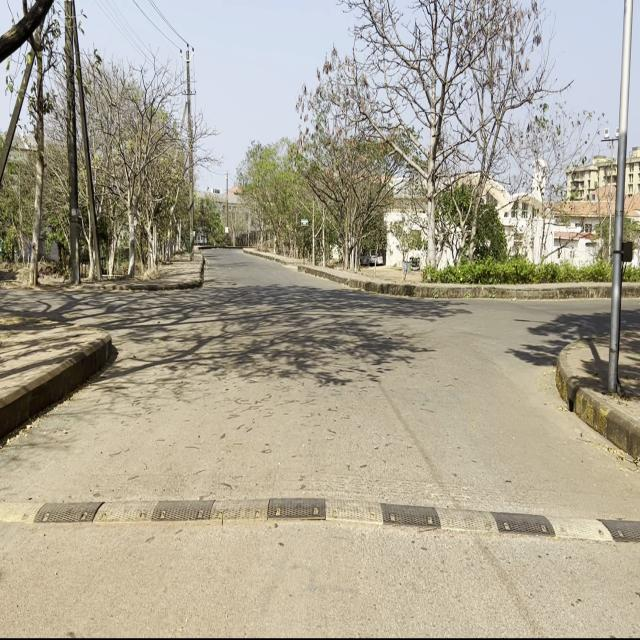Road: (1, 247, 638, 634)
